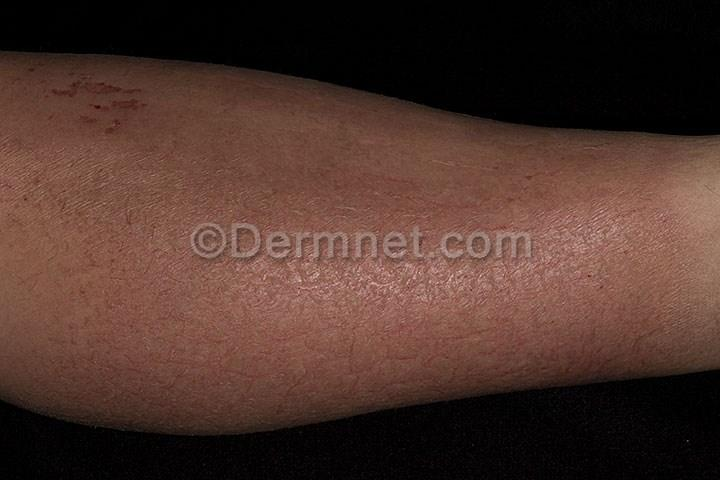Eczema: (54, 74, 165, 148)
